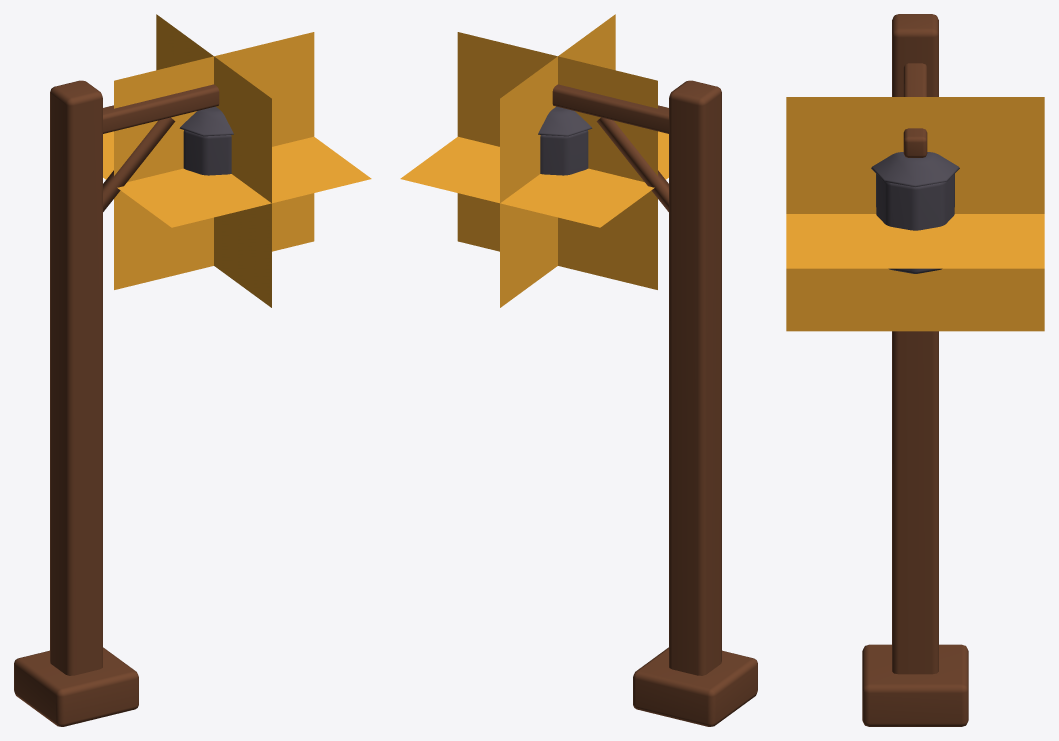
Rendered from gulch_lamp.glb.
3 views of the same model, side by side, from view 1: azimuth 30°, elevation 25°; view 2: azimuth 150°, elevation 25°; view 3: azimuth 270°, elevation 25° (orthographic). The views are drawn at different scales.
Parts seen in each view (by area): view 1: Lamp; view 2: Lamp; view 3: Lamp.
Boxes of the visible parts, x1,y1,x2,y2 form: Lamp: (14, 14, 371, 726); Lamp: (400, 14, 757, 726); Lamp: (786, 14, 1044, 726).
Bounding box in the file's own units: 1.52 × 3.2 × 1.09.
